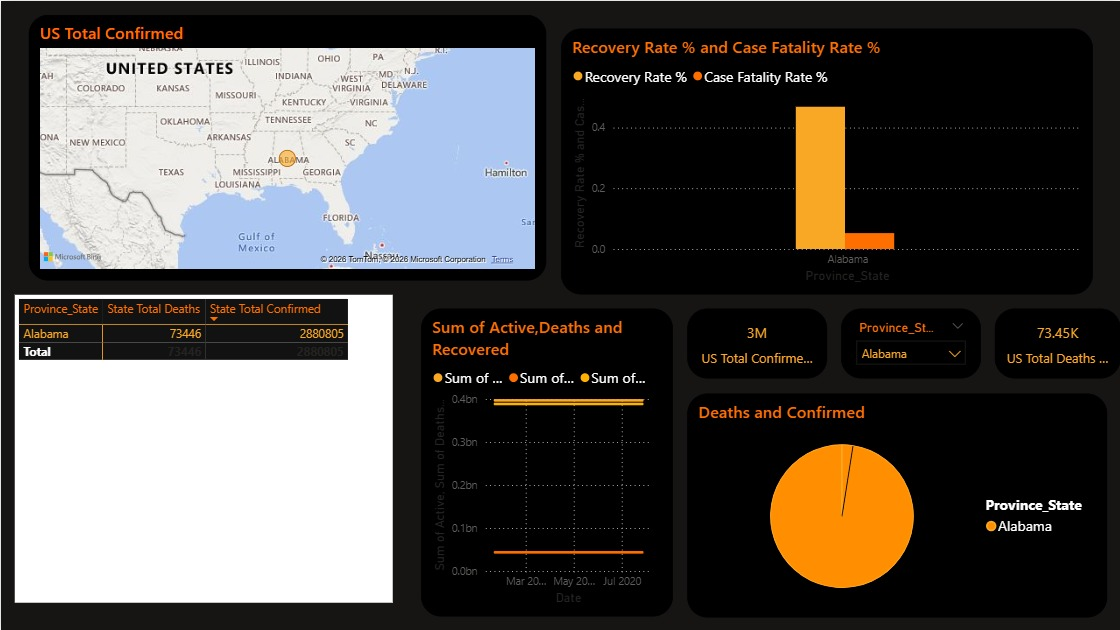

This screenshot's page, from the dashboard's own definition file:
{"tool":"powerbi","page":{"name":"USA DEEP DIVE","canvas":[1280,720],"ordinal":3},"visuals":[{"type":"card","fields":{"Values":["day_wise.US Total Confirmed (USA table)"]},"box":[784,352,160,80],"z":1000},{"type":"card","fields":{"Values":["day_wise.US Total Deaths (USA table)"]},"box":[1136,352,144,80],"z":2000},{"type":"map","title":"US Total Confirmed","fields":{"Category":["usa_countRy_wise.Province_State"],"Size":["day_wise.US Total Confirmed (USA table)"]},"box":[32,16,592,304],"z":3000},{"type":"pivotTable","fields":{"Rows":["usa_countRy_wise.Province_State"],"Values":["day_wise.State Total Deaths","day_wise.State Total Confirmed"]},"box":[16,336,432,352],"z":4000},{"type":"pieChart","title":" Deaths and Confirmed ","fields":{"Category":["usa_countRy_wise.Province_State"],"Y":["Sum(usa_countRy_wise.Deaths)","Sum(usa_countRy_wise.Confirmed)"]},"box":[784,448,480,256],"z":5000},{"type":"lineChart","title":"Sum of Active,Deaths and Recovered ","fields":{"Category":["usa_countRy_wise.Date"],"Y":["Sum(day_wise.Active)","Sum(day_wise.Deaths)","Sum(day_wise.Recovered)"]},"box":[480,352,288,352],"z":6000},{"type":"clusteredColumnChart","title":"Recovery Rate % and Case Fatality Rate % ","fields":{"Y":["DAX.Recovery Rate %","DAX.Case Fatality Rate %"],"Category":["usa_countRy_wise.Province_State"]},"box":[640,32,608,304],"z":7000},{"type":"slicer","fields":{"Values":["usa_countRy_wise.Province_State"]},"box":[960,352,160,80],"z":8000}]}

Visuals, with their boxes in screenshot pixels (x1, y1, x2, y2), scaled from the page's 1280x720 canvas onto the 1120x630 screenshot:
card - day_wise.US Total Confirmed (USA table): l=686, t=308, r=826, b=378
card - day_wise.US Total Deaths (USA table): l=994, t=308, r=1119, b=378
"US Total Confirmed" map: l=28, t=14, r=546, b=280
pivotTable - usa_countRy_wise.Province_State x day_wise.State Total Deaths: l=14, t=294, r=392, b=602
" Deaths and Confirmed " pieChart: l=686, t=392, r=1106, b=616
"Sum of Active,Deaths and Recovered " lineChart: l=420, t=308, r=672, b=616
"Recovery Rate % and Case Fatality Rate % " clusteredColumnChart: l=560, t=28, r=1092, b=294
slicer - usa_countRy_wise.Province_State: l=840, t=308, r=980, b=378
